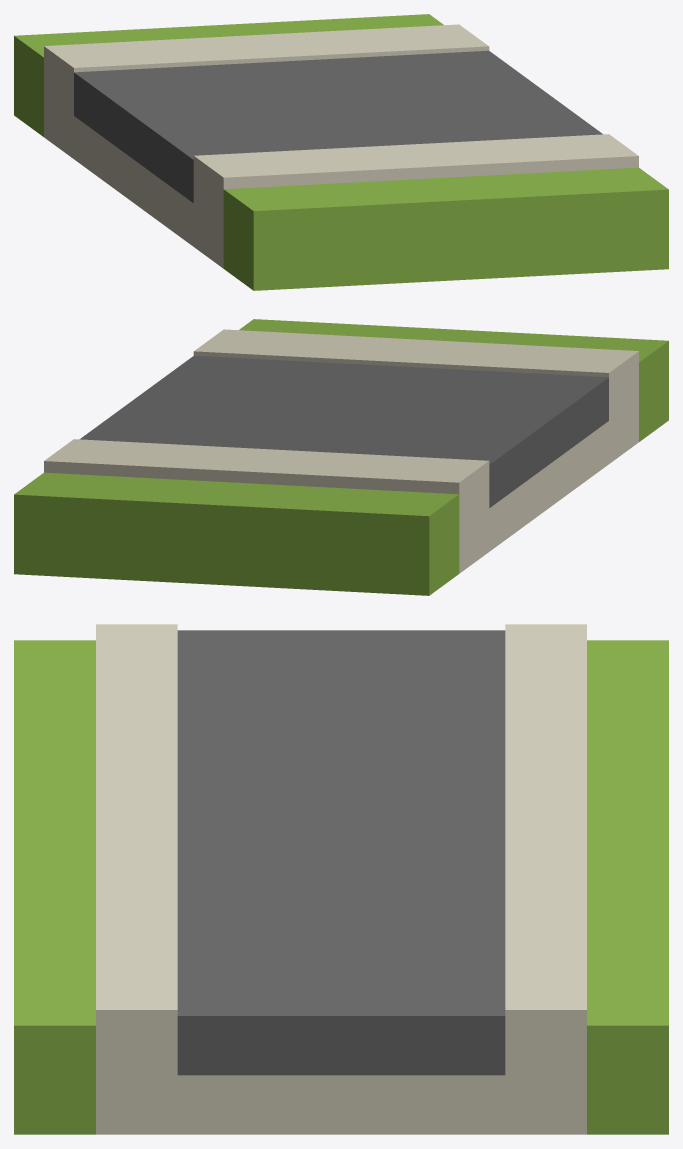
Rendered from road-one-way-grass-ramp.obj.
The picture shows the model from 3 angles, top to bottom: view 1: azimuth 30°, elevation 25°; view 2: azimuth 150°, elevation 25°; view 3: azimuth 270°, elevation 25°; orthographic projection. The views are drawn at different scales.
Parts seen in each view (by area): view 1: Mesh1_Group1_Model.182; view 2: Mesh1_Group1_Model.182; view 3: Mesh1_Group1_Model.182.
Part boxes in pixels (left/top/right/bottom): Mesh1_Group1_Model.182: left=14, top=14, right=668, bottom=290; Mesh1_Group1_Model.182: left=14, top=319, right=668, bottom=595; Mesh1_Group1_Model.182: left=14, top=624, right=668, bottom=1134.
Bounding box in the file's own units: 3 × 1.18 × 3.
